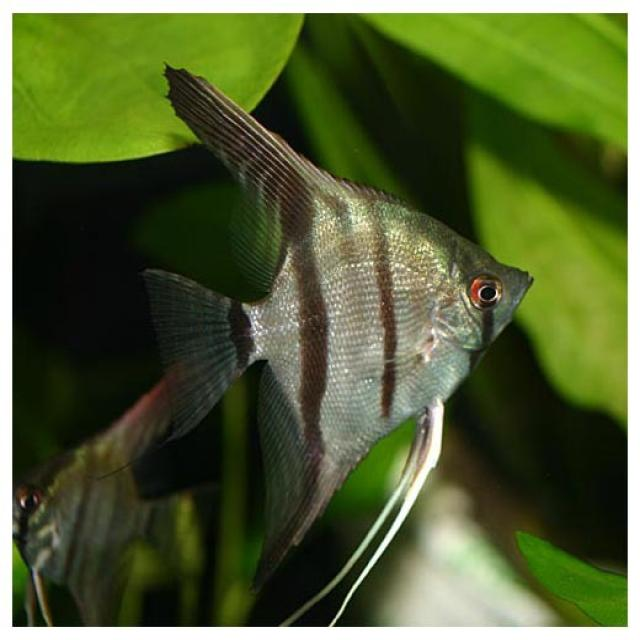AngelFish: (156, 55, 532, 603)
